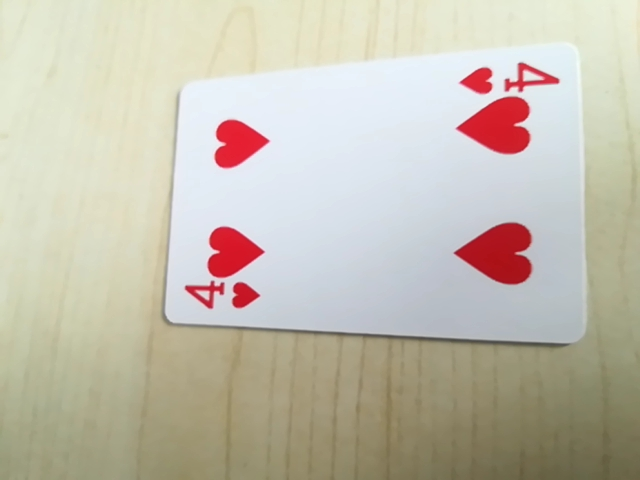hx 4: (455, 54, 562, 99), (178, 276, 263, 321)
